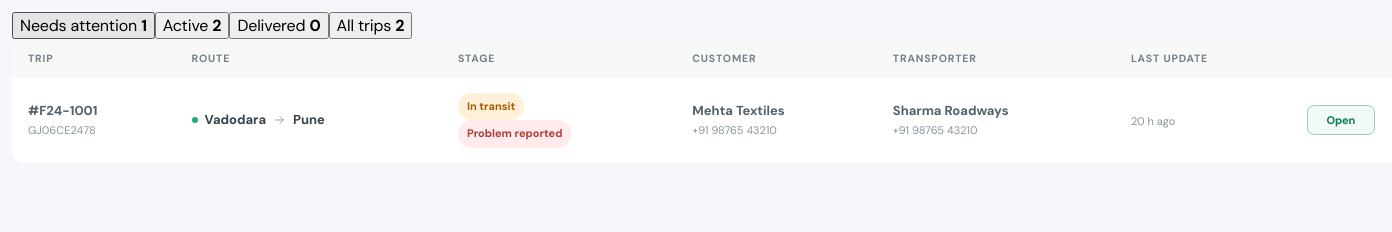
Test: AdminTrips › shows all active trips under Active
The image size is (1392, 232).
Step 1. Click the button "Active 2" → (192, 26), box [155,12,229,39]
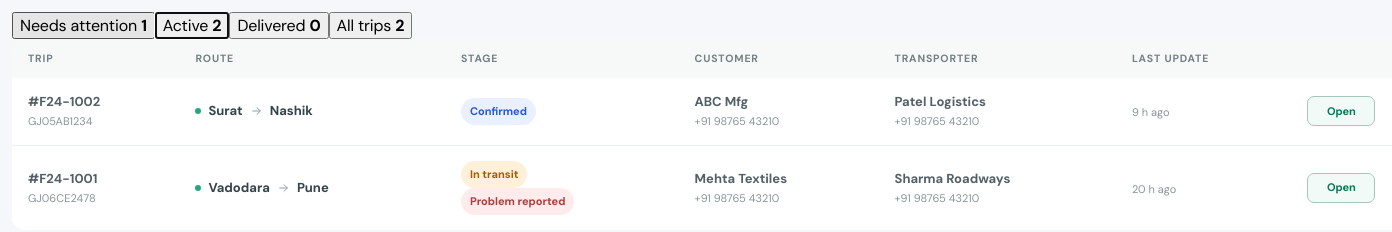
Expected: the text "#F24-1002" is shown, [28,93,100,110]
